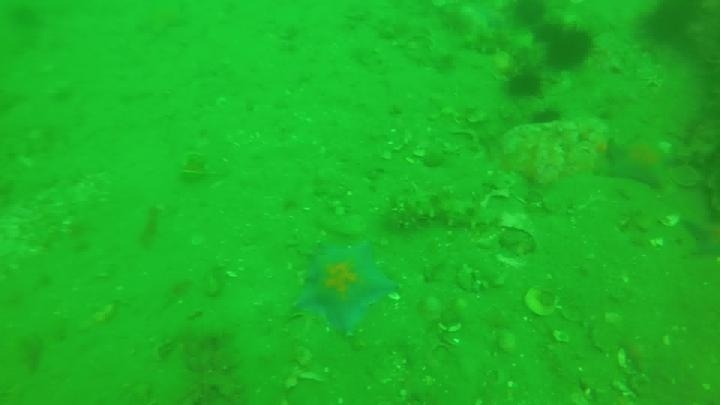echinus: (638, 1, 704, 47), (544, 26, 595, 73), (503, 68, 545, 101), (507, 1, 550, 28), (530, 20, 566, 47), (528, 105, 564, 129)
holothurian: (385, 186, 498, 233), (458, 27, 534, 60)
starfish: (292, 241, 398, 338), (603, 133, 677, 191), (679, 211, 720, 262)
